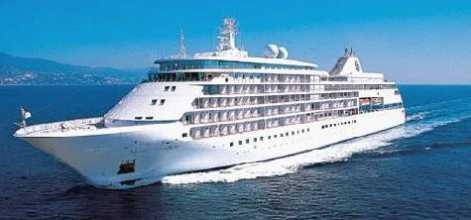youlun: (13, 25, 406, 190)
